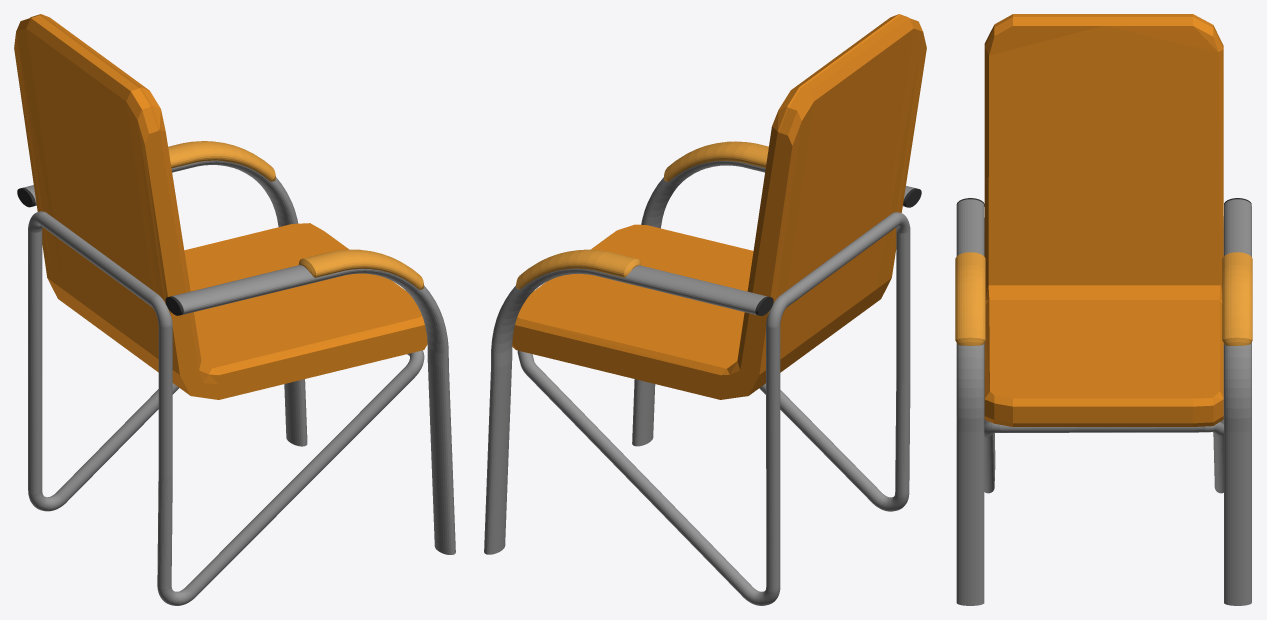
The model's file is lectorium_chair_visual_orange.dae.
3 views of the same model, side by side, from view 1: azimuth 30°, elevation 25°; view 2: azimuth 150°, elevation 25°; view 3: azimuth 270°, elevation 25° (orthographic). The views are drawn at different scales.
Parts seen in each view (by area): view 1: Cube_005; view 2: Cube_005; view 3: Cube_005.
Part boxes in pixels (box(x1,y1,x2,y2)): Cube_005: box(14, 14, 455, 605); Cube_005: box(484, 14, 926, 605); Cube_005: box(955, 14, 1252, 605).
Bounding box in the file's own units: 43.49 × 40.96 × 70.38.
